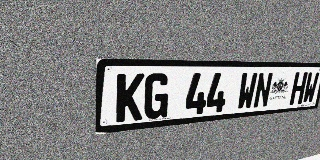4: (184, 73, 209, 116), (205, 73, 229, 114)
G: (143, 73, 170, 120)
H: (289, 72, 308, 105)
K: (116, 73, 145, 123)
N: (253, 72, 273, 109)
W: (236, 73, 258, 110), (302, 72, 320, 104)
